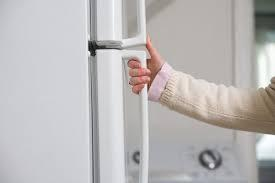handle: (132, 54, 156, 183), (132, 5, 148, 45)
